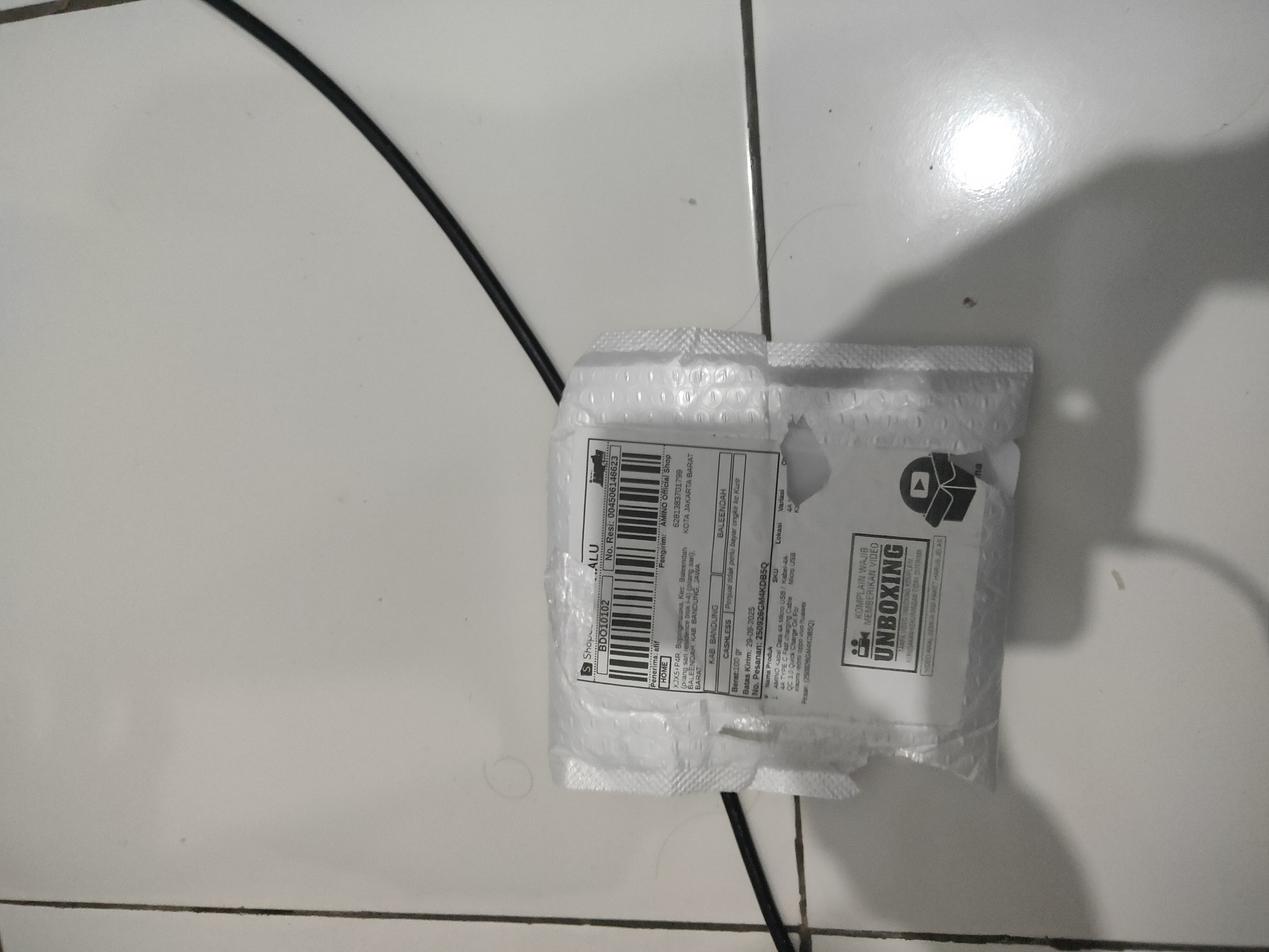damaged package: (823, 741, 994, 800), (546, 549, 601, 692), (932, 434, 1016, 507), (781, 407, 833, 514), (706, 719, 788, 746)
undamaged: (539, 324, 1042, 807)
